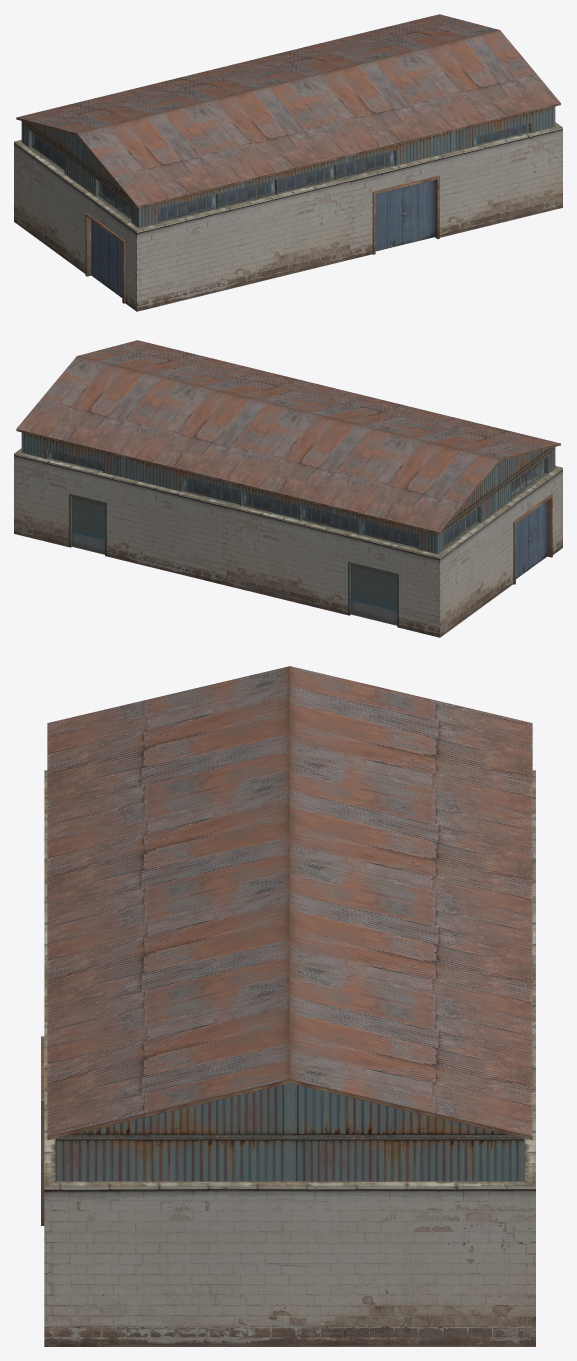
The model's file is Hangar_v5_9.FBX.
The picture shows the model from 3 angles, top to bottom: view 1: azimuth 30°, elevation 25°; view 2: azimuth 150°, elevation 25°; view 3: azimuth 270°, elevation 25°; orthographic projection. The views are drawn at different scales.
Parts seen in each view (by area): view 1: Hangar_v5_9, Hangar_v5_9_door4, Hangar_v5_9_inside, Hangar_v5_9_door3; view 2: Hangar_v5_9, Hangar_v5_9_inside, Hangar_v5_9_door2, Hangar_v5_9_door3, Hangar_v5_9_door1; view 3: Hangar_v5_9.
Part boxes in pixels (x1=…): Hangar_v5_9: x1=14, y1=14, x2=562, y2=311; Hangar_v5_9_door4: x1=375, y1=180, x2=434, y2=251; Hangar_v5_9_inside: x1=159, y1=125, x2=524, y2=221; Hangar_v5_9_door3: x1=91, y1=220, x2=122, y2=297; Hangar_v5_9: x1=14, y1=340, x2=562, y2=637; Hangar_v5_9_inside: x1=48, y1=450, x2=417, y2=547; Hangar_v5_9_door2: x1=351, y1=564, x2=397, y2=625; Hangar_v5_9_door3: x1=516, y1=501, x2=547, y2=578; Hangar_v5_9_door1: x1=72, y1=496, x2=104, y2=554; Hangar_v5_9: x1=41, y1=666, x2=535, y2=1346.
Bounding box in the file's own units: 26.59 × 7.91 × 13.32.
